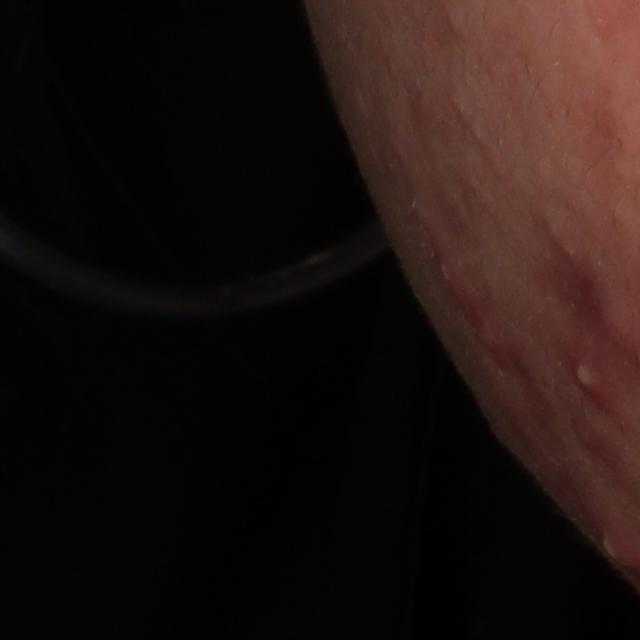papule: (430, 249, 472, 302), (474, 316, 516, 367)
pustule: (556, 349, 619, 418)
